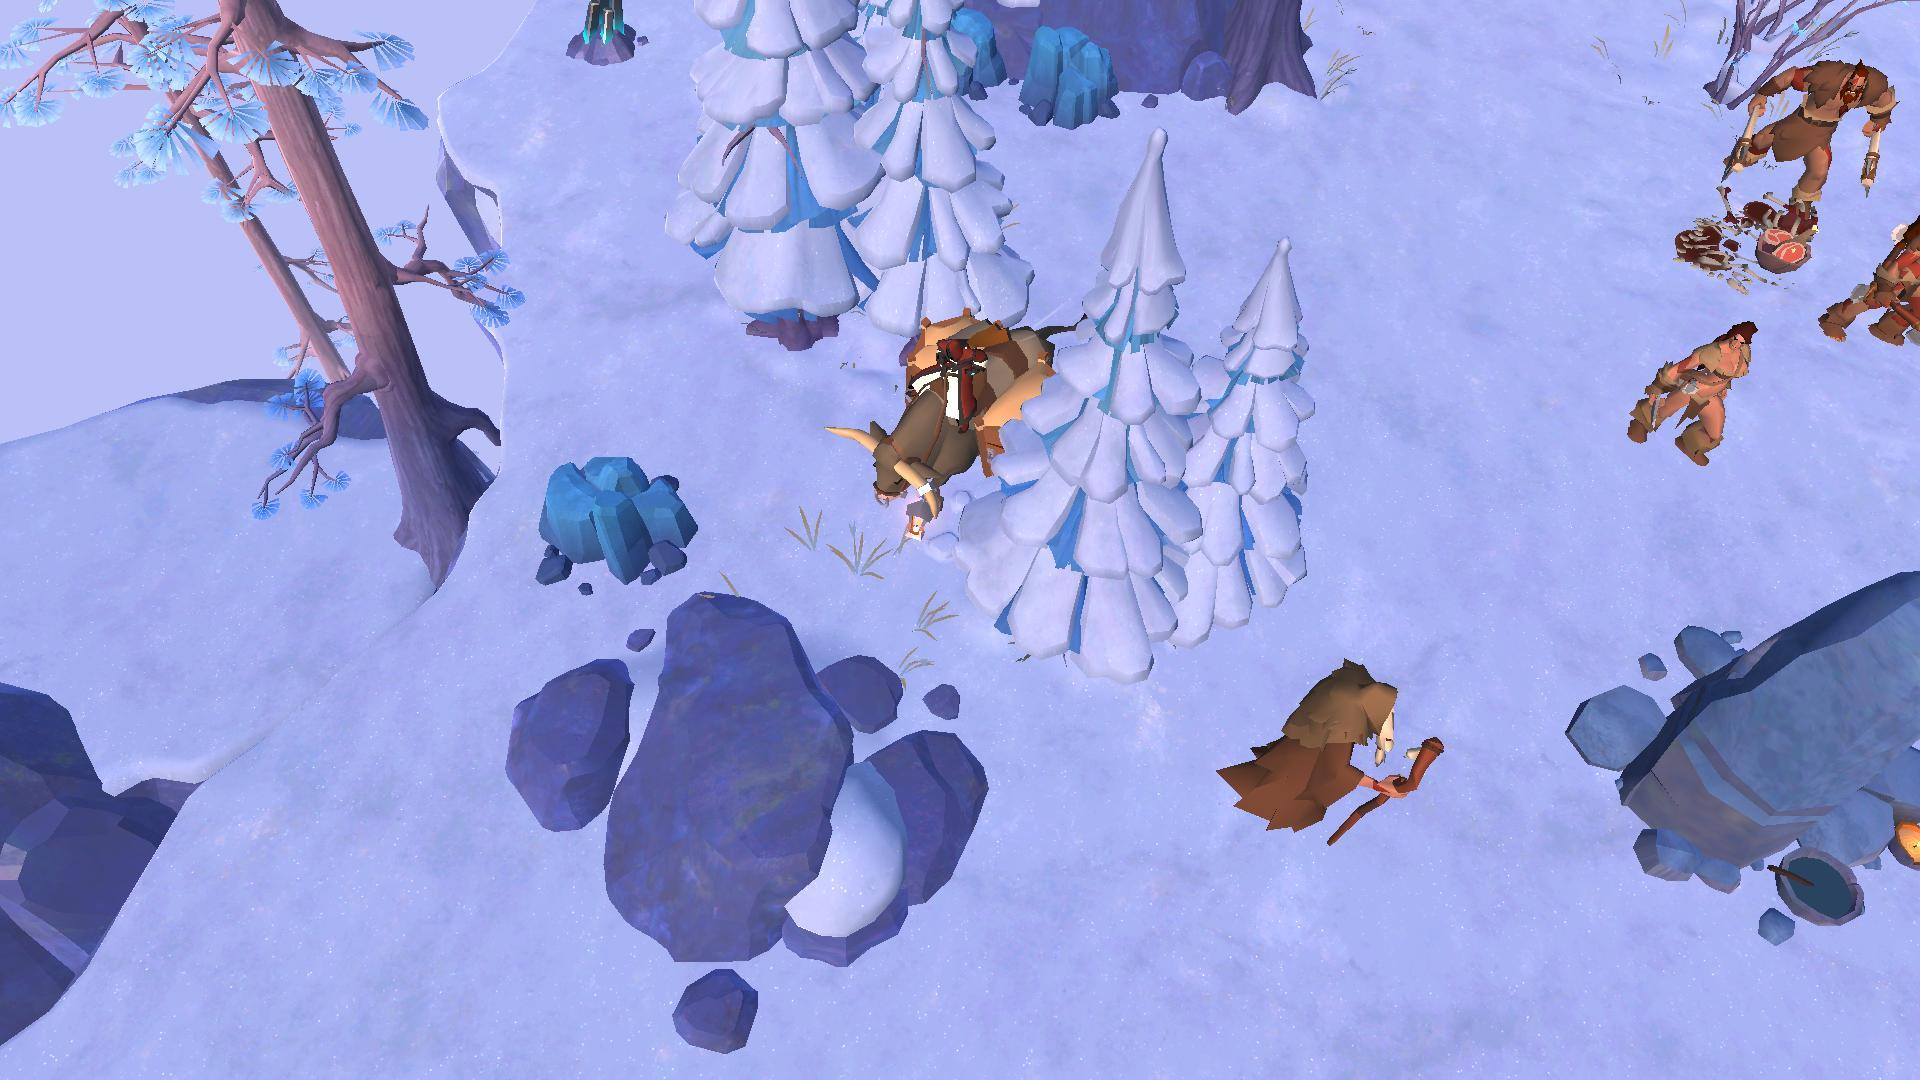enemy_factionKeeper: (1222, 658, 1420, 852), (1716, 61, 1899, 211), (1613, 322, 1766, 469), (1821, 208, 1920, 353)
ore_t4: (576, 0, 625, 45)
rock_t4: (530, 451, 700, 578), (1007, 26, 1130, 133), (911, 11, 1015, 99)
